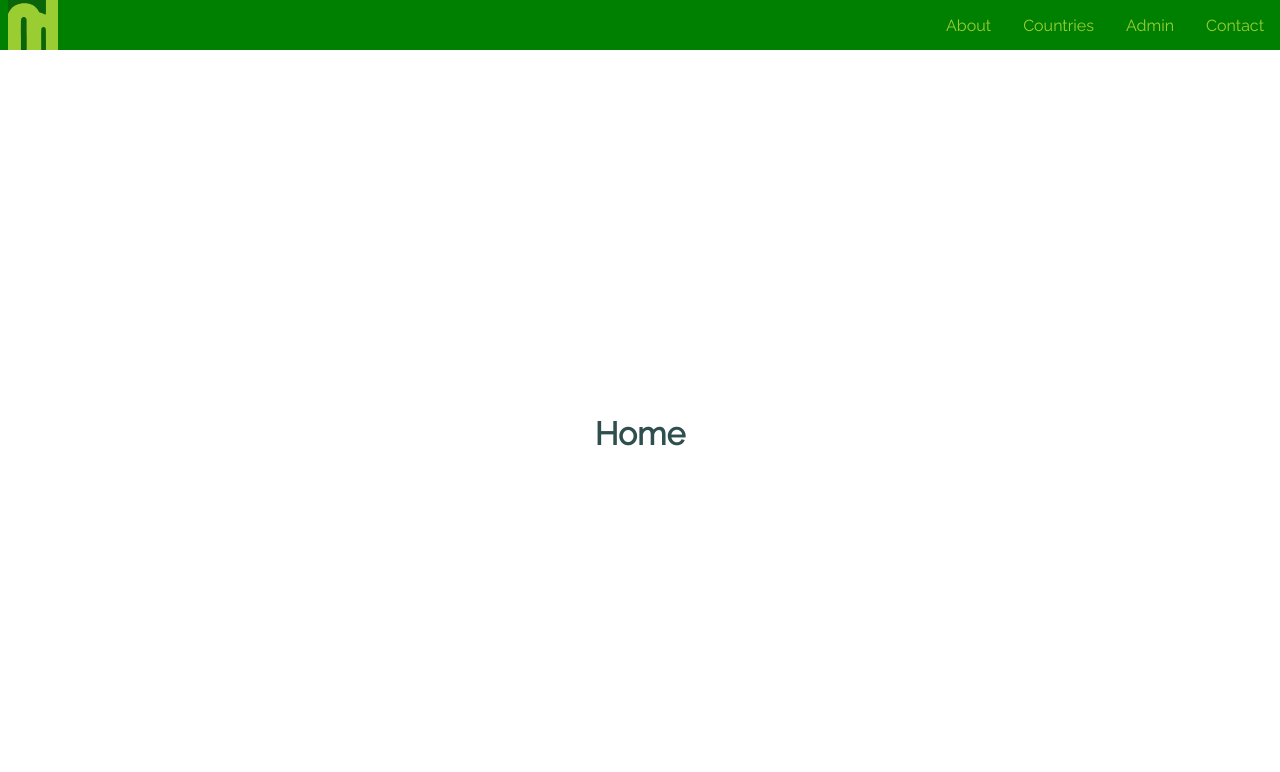
Test: App navigation › clicking on the countries link should go to the countries page
Click the link "Countries" at (1058, 25), box [1023,16,1094,34]
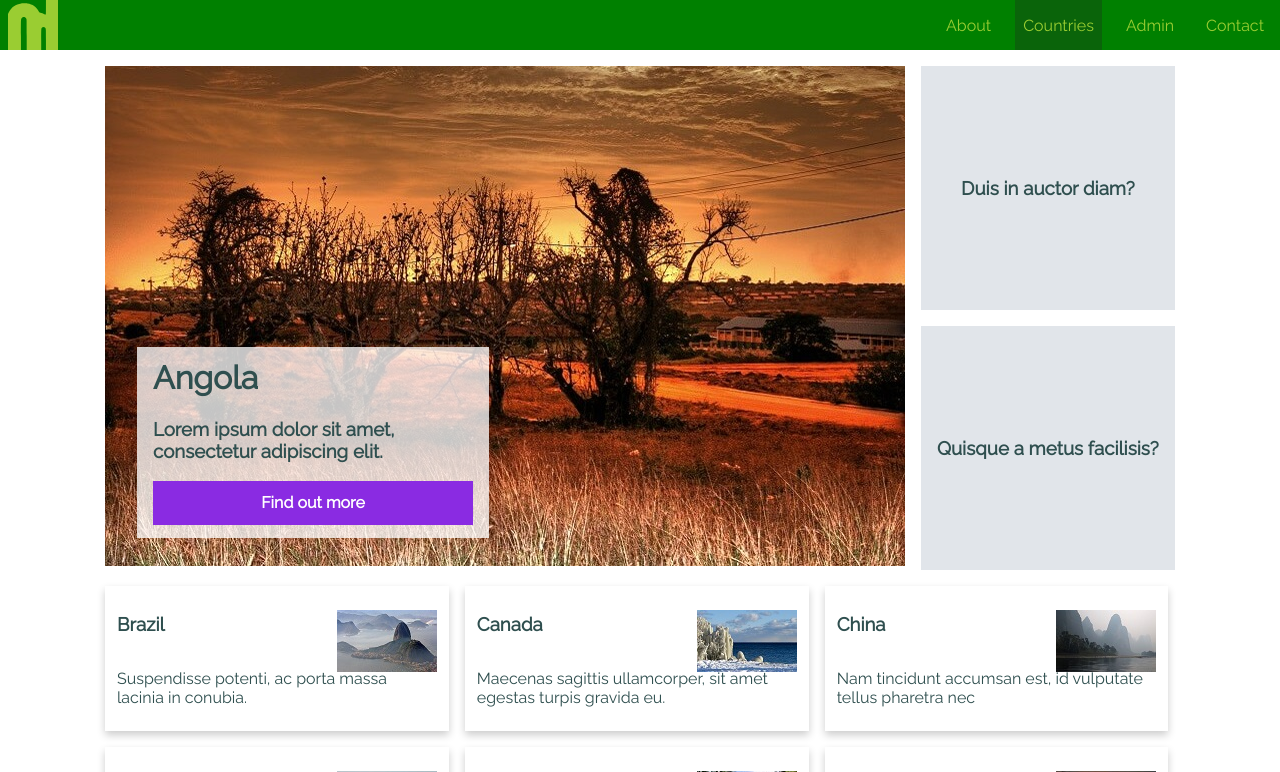
Result: the heading "Brazil" is shown at [117,613,164,635]
